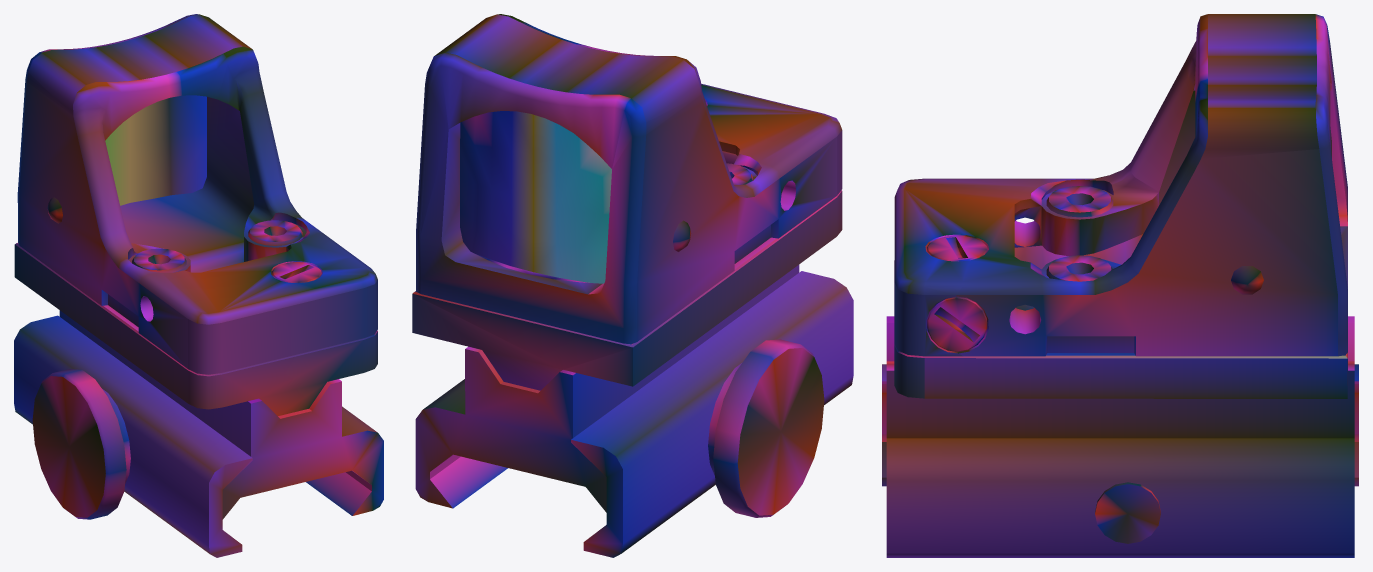
The model's file is m4skin.fbx.
3 views of the same model, side by side, from view 1: azimuth 30°, elevation 25°; view 2: azimuth 150°, elevation 25°; view 3: azimuth 270°, elevation 25° (orthographic). The views are drawn at different scales.
Visible parts, largest first — view 1: Reflex Sight NATO; view 2: Reflex Sight NATO; view 3: Reflex Sight NATO.
Boxes of the visible parts, left/top/right/bottom form: Reflex Sight NATO: left=14, top=14, right=383, bottom=557; Reflex Sight NATO: left=412, top=14, right=853, bottom=557; Reflex Sight NATO: left=882, top=14, right=1358, bottom=557.
Size of the model in its own units: 3.2 by 5.28 by 4.73.
